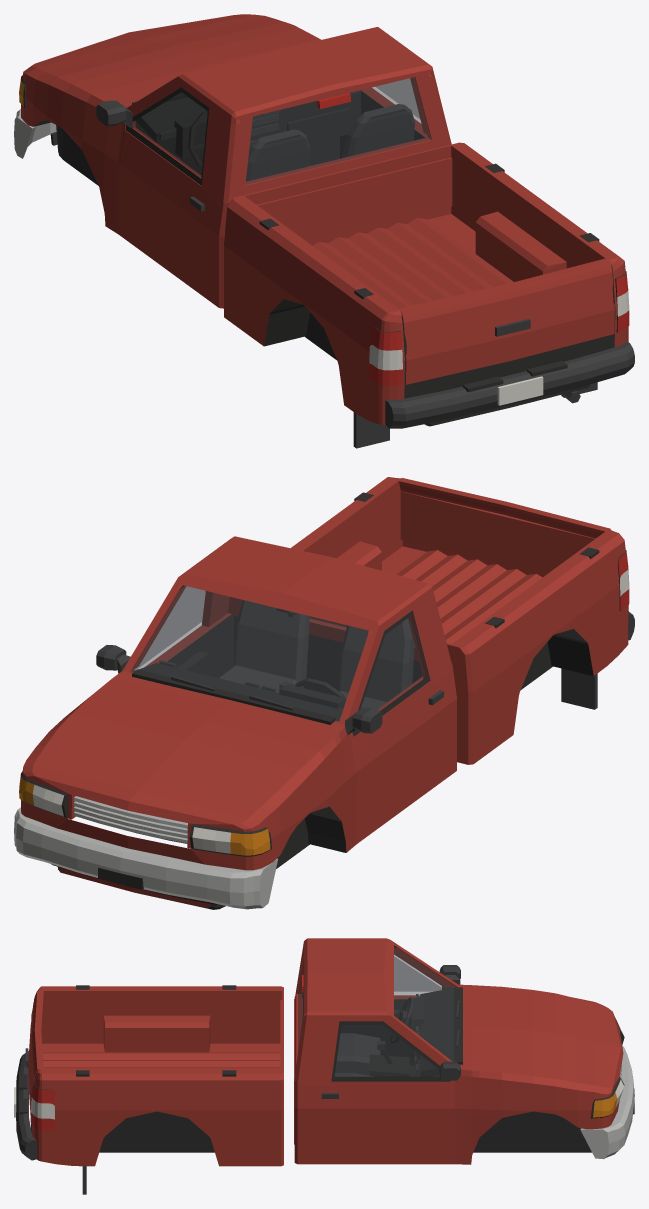
File: ranger.glb
3 views of the same model, one above another, from view 1: azimuth 30°, elevation 25°; view 2: azimuth 150°, elevation 25°; view 3: azimuth 270°, elevation 25° (orthographic). The views are drawn at different scales.
Visible parts, largest first — view 1: Ranger, RangerGlassPanes; view 2: Ranger, RangerGlassPanes; view 3: Ranger, RangerGlassPanes.
Boxes of the visible parts, x1,y1,x2,y2 form: Ranger: (14,14,634,448); RangerGlassPanes: (132,77,430,184); Ranger: (14,477,634,909); RangerGlassPanes: (131,585,425,722); Ranger: (14,938,634,1194); RangerGlassPanes: (298,946,455,1076).
Size of the model in its own units: 1.85 by 1.47 by 4.7.
